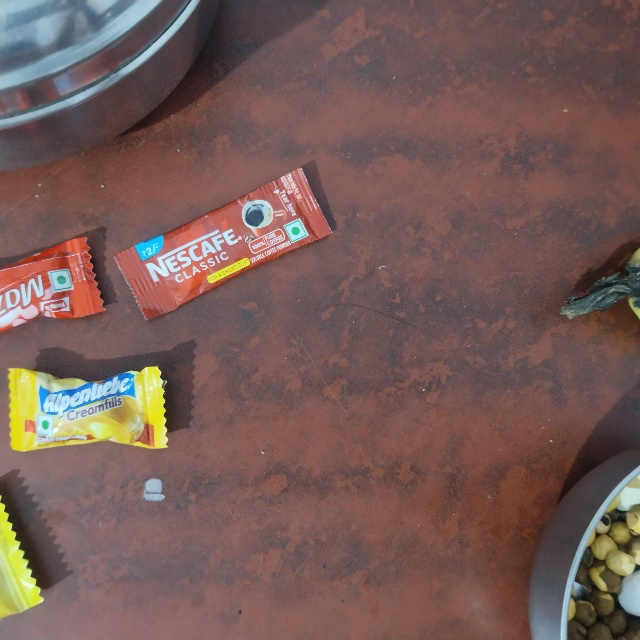Alpenlibe Creamfills: (5, 371, 169, 453)
Mazelo: (0, 248, 99, 330)
Nescafe Coffee: (108, 260, 328, 338)
